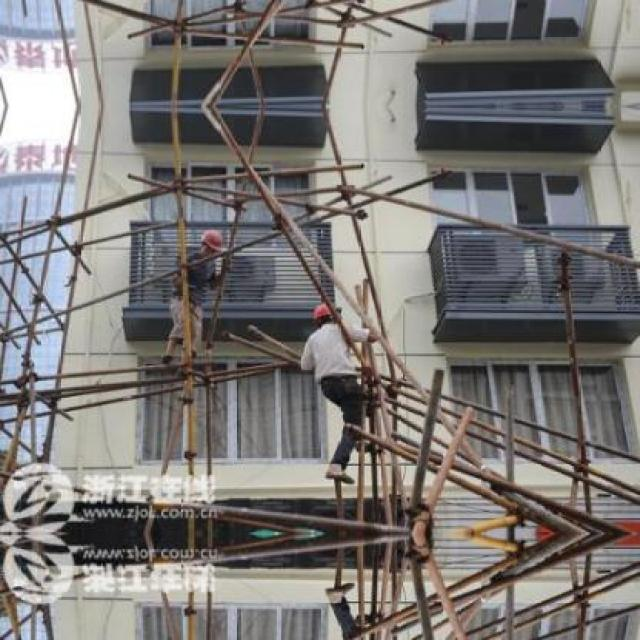helmet: (310, 295, 344, 330), (199, 224, 226, 258)
